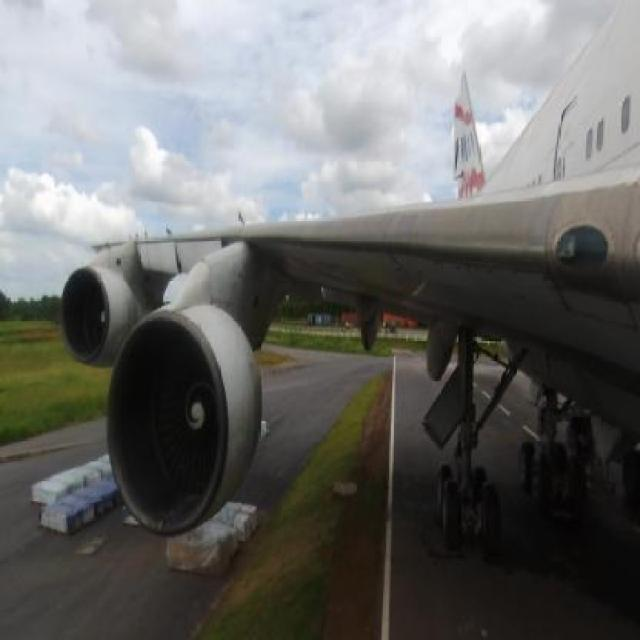Scartch: (424, 255, 547, 293)
